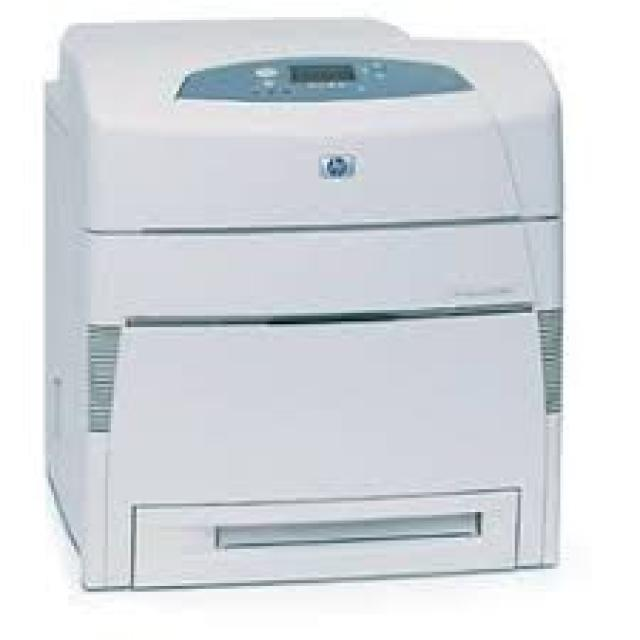printer: (40, 14, 563, 592)
